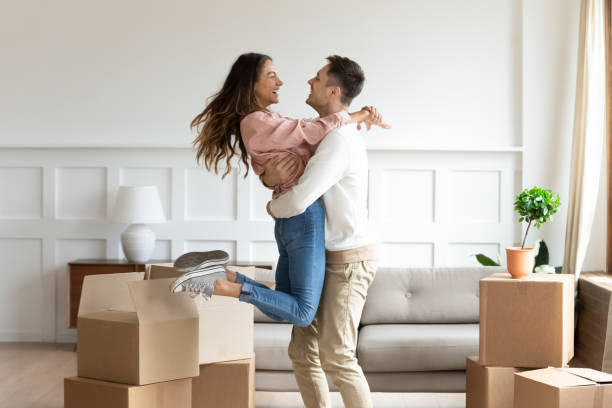without mask: (305, 53, 365, 121), (234, 49, 287, 115)
